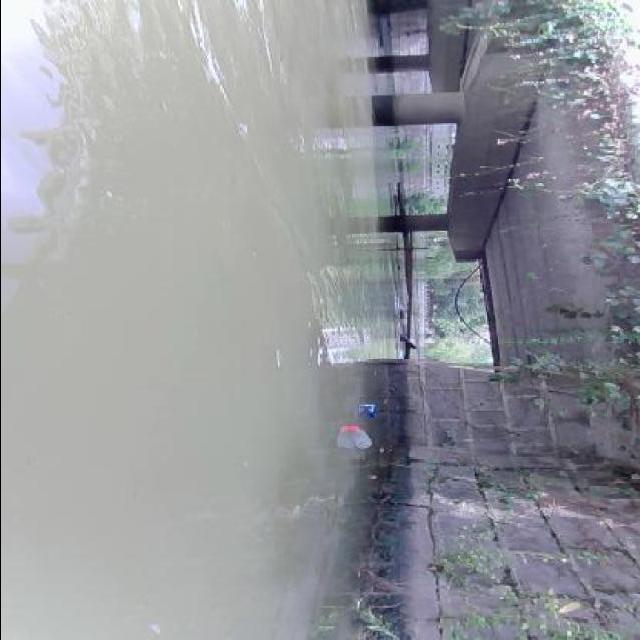Bottle: (340, 421, 372, 450)
